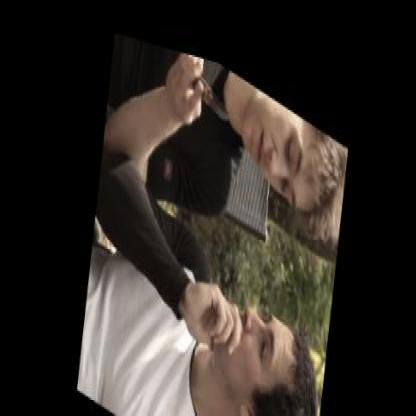knife: (174, 40, 240, 136)
